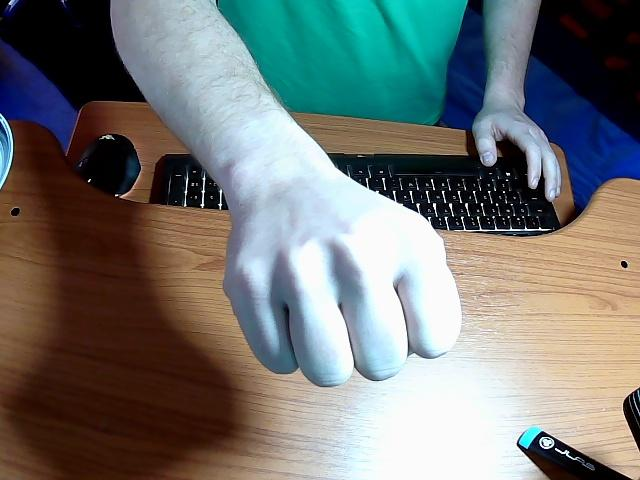rock: (222, 138, 460, 386)
